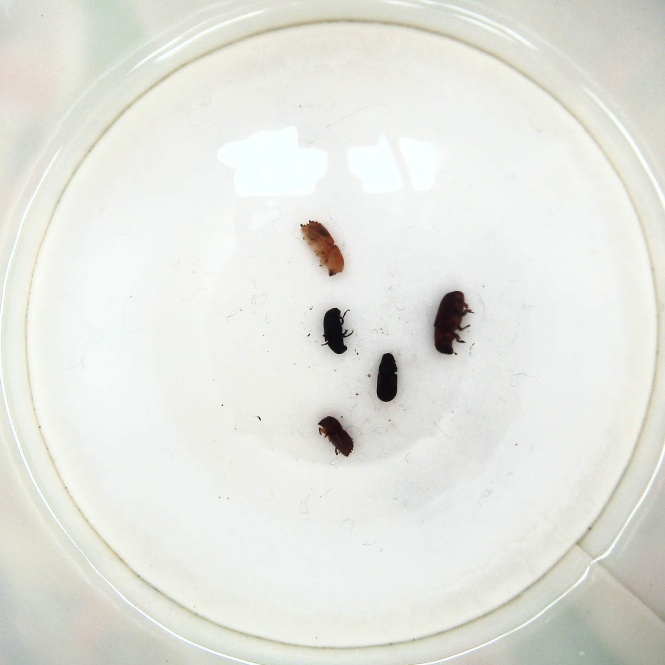armandi: (375, 352, 402, 404)
boerner: (298, 219, 345, 281)
coleoptera: (319, 307, 350, 355)
leconte: (433, 288, 473, 358)
linnaeus: (315, 416, 356, 459)
